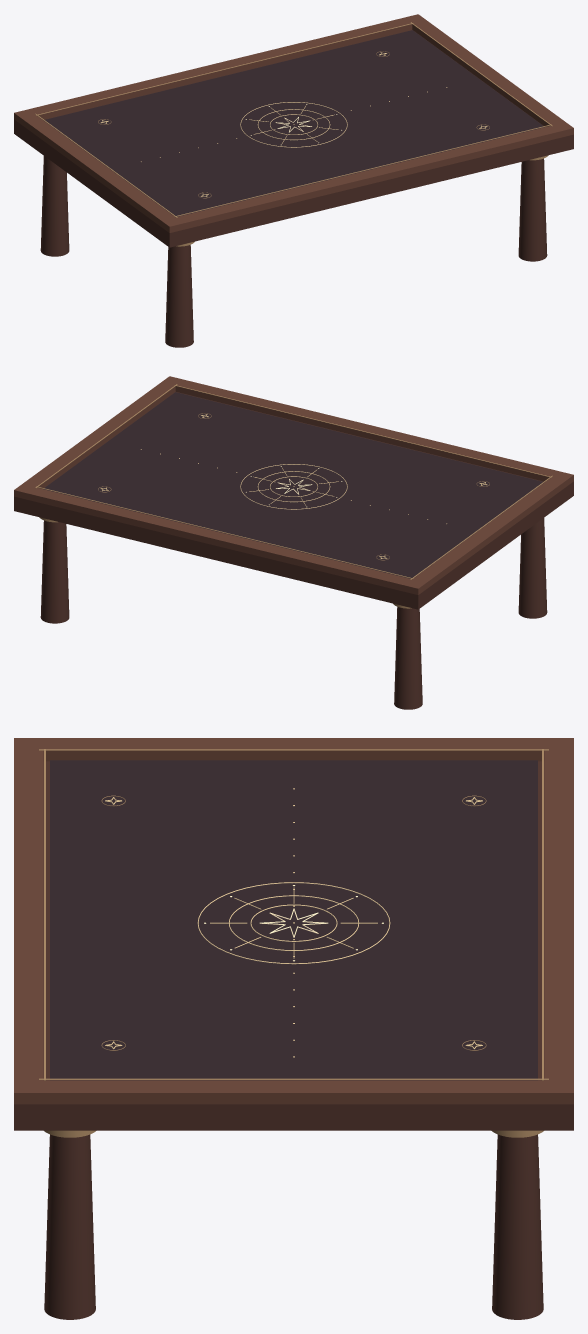
Rendered from table.glb.
3 views of the same model, one above another, from view 1: azimuth 30°, elevation 25°; view 2: azimuth 150°, elevation 25°; view 3: azimuth 270°, elevation 25° (orthographic). The views are drawn at different scales.
Visible parts, largest first — view 1: PurpleVelvet, WalnutSlab, _MeshInstance3D_5, EndRail, SideRail, _MeshInstance3D_2, _MeshInstance3D_7, _MeshInstance3D_11, ShortLeg, _MeshInstance3D_6, _MeshInstance3D_4; view 2: PurpleVelvet, WalnutSlab, EndRail, _MeshInstance3D_5, SideRail, _MeshInstance3D_2, ShortLeg, _MeshInstance3D_9, _MeshInstance3D_7, _MeshInstance3D_4, _MeshInstance3D_6; view 3: PurpleVelvet, WalnutSlab, _MeshInstance3D_2, SideRail, _MeshInstance3D_5, EndRail, _MeshInstance3D_9, _MeshInstance3D_11, GiltRailInset, _MeshInstance3D_3.
Part boxes in pixels (x1,y1,x2,y2): PurpleVelvet: (44,30,544,216); WalnutSlab: (14,30,573,247); _MeshInstance3D_5: (169,122,573,232); EndRail: (14,15,420,119); SideRail: (14,113,182,232); _MeshInstance3D_2: (404,14,568,130); _MeshInstance3D_7: (165,245,193,347); _MeshInstance3D_11: (518,158,547,261); ShortLeg: (40,156,69,256); _MeshInstance3D_6: (174,124,551,216); _MeshInstance3D_4: (36,23,413,115); PurpleVelvet: (43,392,543,578); WalnutSlab: (14,392,573,609); EndRail: (14,484,418,594); _MeshInstance3D_5: (163,377,573,481); SideRail: (405,475,573,594); _MeshInstance3D_2: (19,376,183,492); ShortLeg: (394,607,422,709); _MeshInstance3D_9: (40,520,69,623); _MeshInstance3D_7: (518,518,547,618); _MeshInstance3D_4: (36,486,413,578); _MeshInstance3D_6: (174,385,551,477); PurpleVelvet: (50,760,537,1080); WalnutSlab: (14,761,573,1130); _MeshInstance3D_2: (14,1080,573,1104); SideRail: (14,738,573,761); _MeshInstance3D_5: (14,738,43,1092); EndRail: (544,738,573,1092); _MeshInstance3D_9: (492,1134,543,1319); _MeshInstance3D_11: (44,1134,95,1319); GiltRailInset: (39,749,548,750); _MeshInstance3D_3: (39,1078,548,1079).
Bounding box in the file's own units: 2.7 × 0.85 × 1.8.
